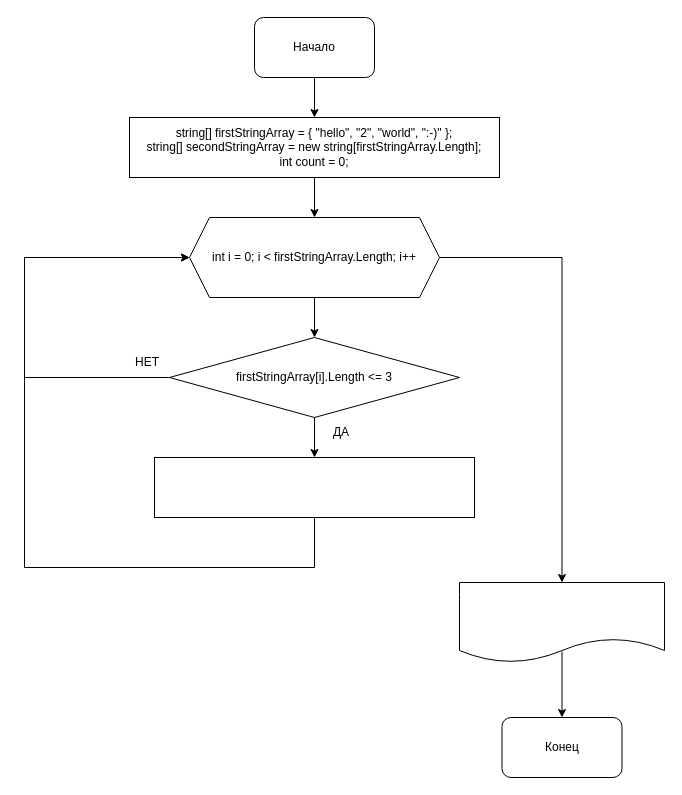
The diagram is 682 pixels wide and 795 high, and some of its shapes have lost their labels. The shapes that lost their labels are listed below. From the top down, each one's centre as x and y in pixels, then its label:
At [314,487]: "secondStringArray[count] = firstStringArray[i]; count++;".
At [561,622]: "PrintArray(secondStringArray);".
